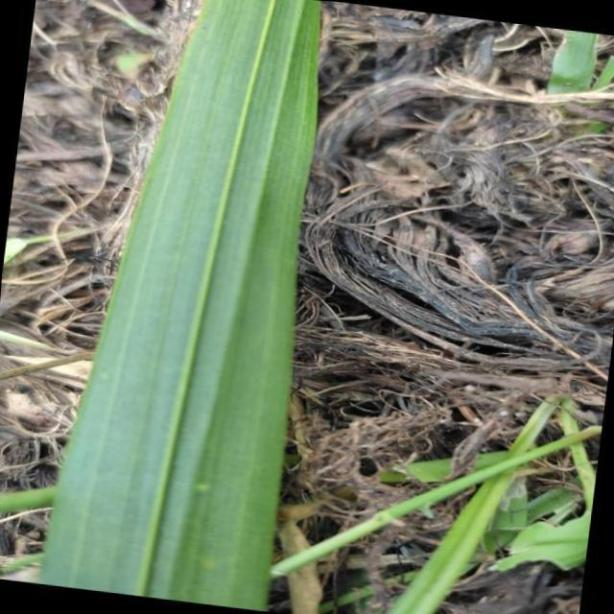Healthy: (41, 1, 321, 614)
